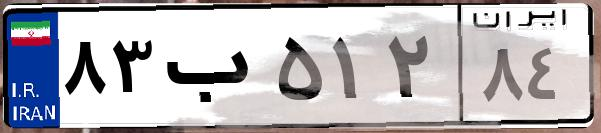1: (330, 28, 385, 110)
2: (385, 28, 445, 110)
3: (110, 28, 158, 98)
4: (525, 38, 570, 115)
5: (270, 28, 330, 110)
8: (57, 26, 110, 100), (475, 38, 525, 113)
ب: (158, 20, 270, 120)
